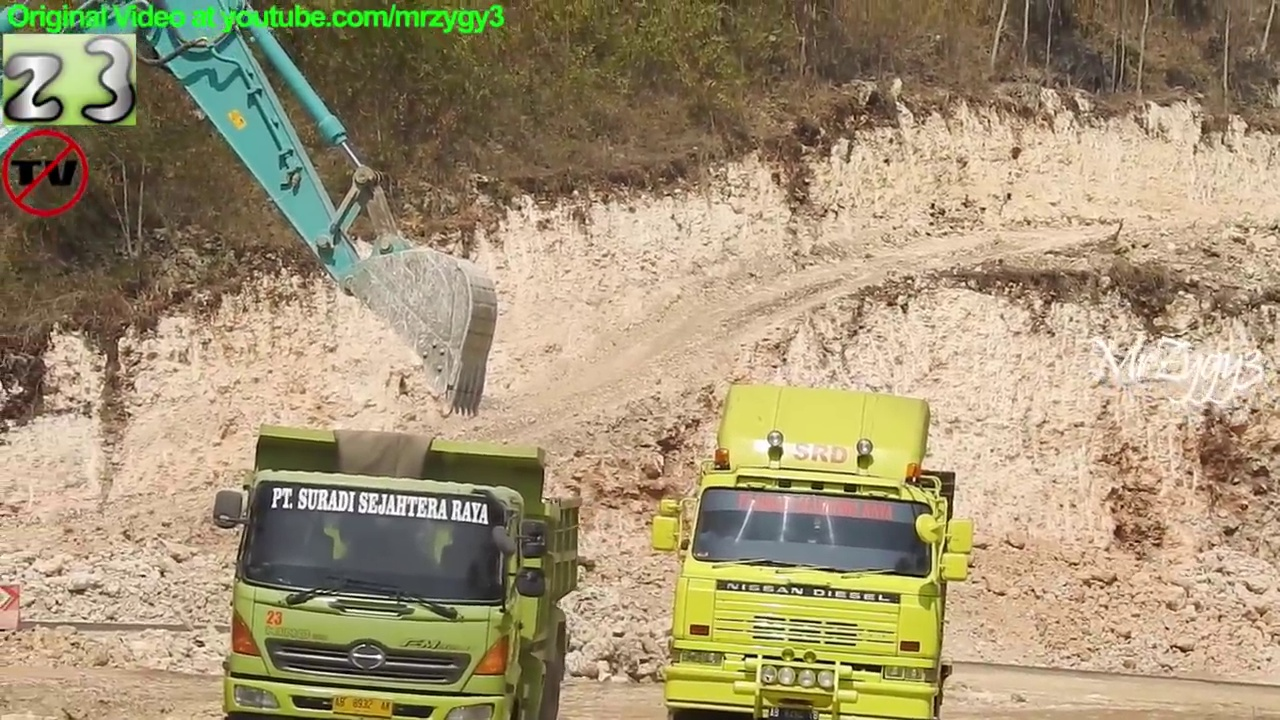excavator: (1, 1, 503, 424)
truck: (644, 378, 988, 720), (210, 420, 595, 720)
